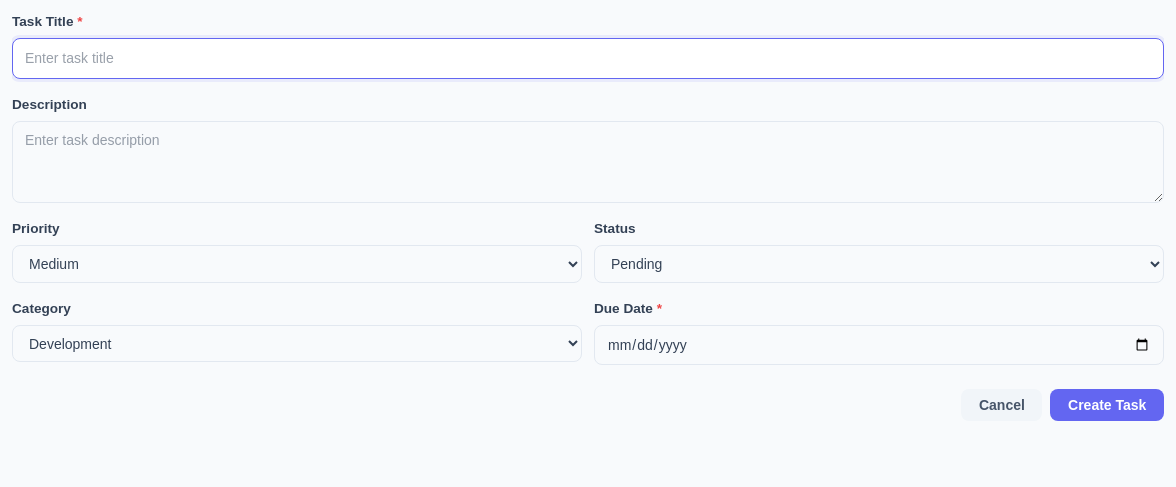
Test: TaskForm › shows validation errors for empty title
Click the button "Create Task" at (1107, 405), box [1050, 389, 1164, 421]
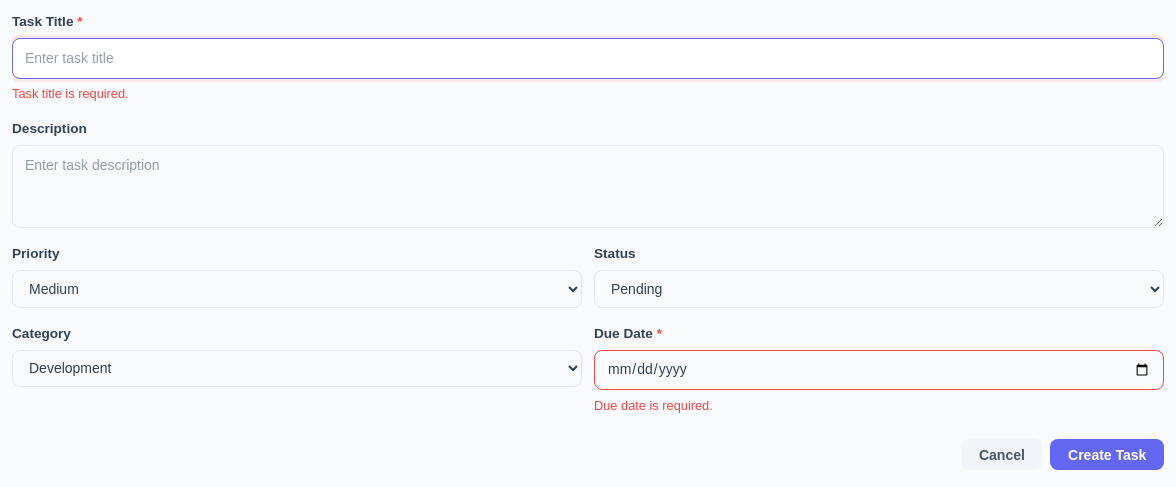
Now the text "Task title is required." is shown, box [12, 86, 129, 101]
